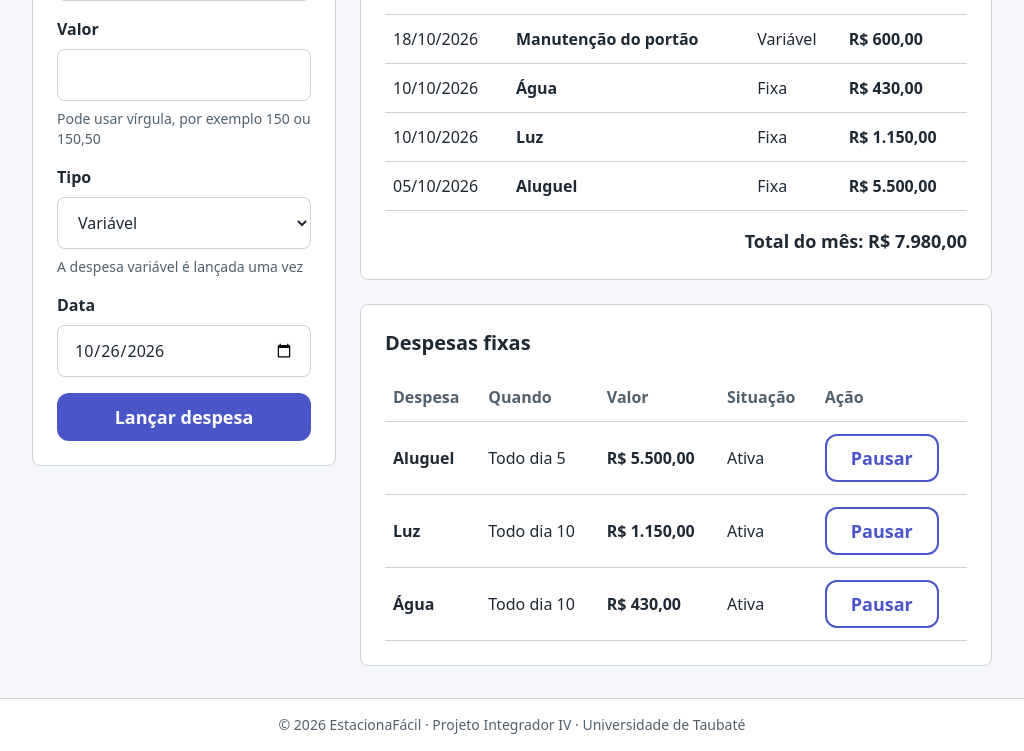
Test: aba Despesas › o Proprietário pausa uma despesa fixa e a linha passa a "Pausada"
(page scrolled)
Click the button with aria-label "Pausar Aluguel".
click(882, 458)  # box [825, 434, 939, 482]
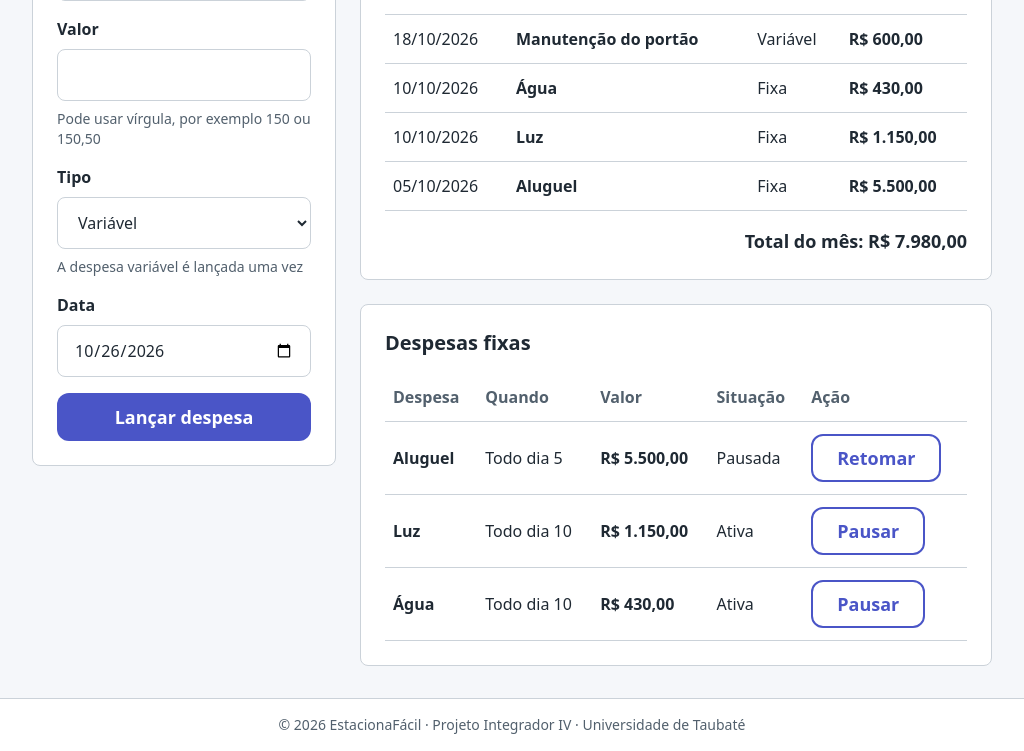
expect the text "Aluguel" next to "Todo dia 5" is shown: met, box [393, 447, 454, 469]
expect the button with aria-label "Retomar Aluguel" is shown: met
Click the button with aria-label "Retomar Aluguel".
click(876, 458)  # box [811, 434, 941, 482]
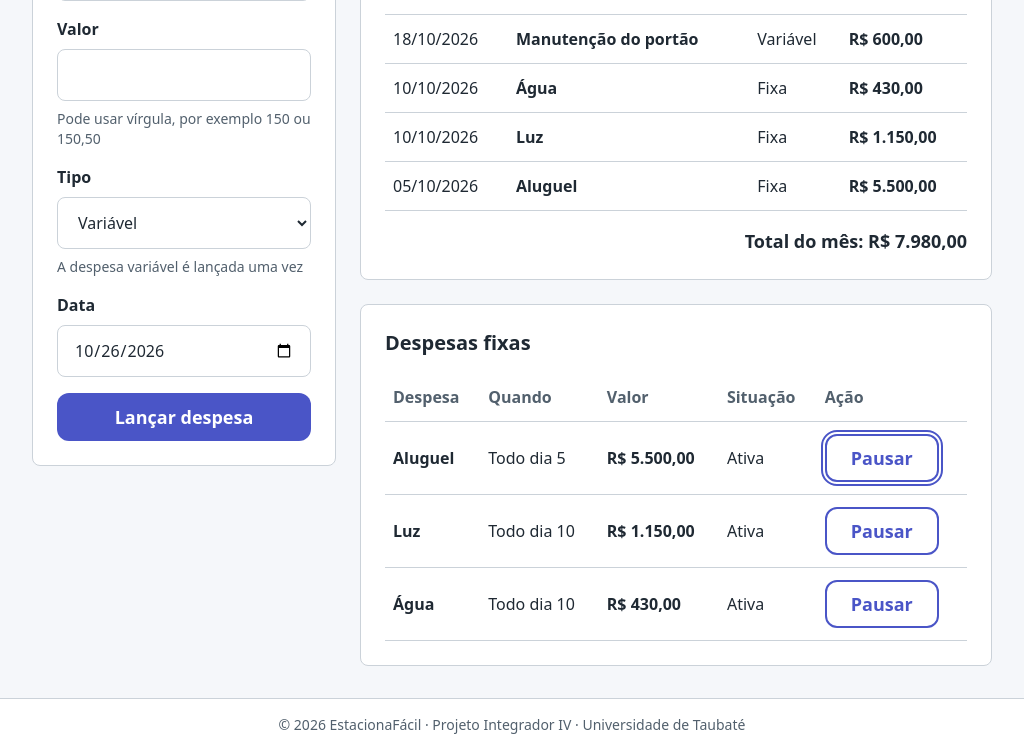
expect the text "Ativa" is shown 3 times: met, box [719, 422, 817, 494]; [719, 494, 817, 568]; [719, 568, 817, 640]
expect the text "Pausada" is gone: met
